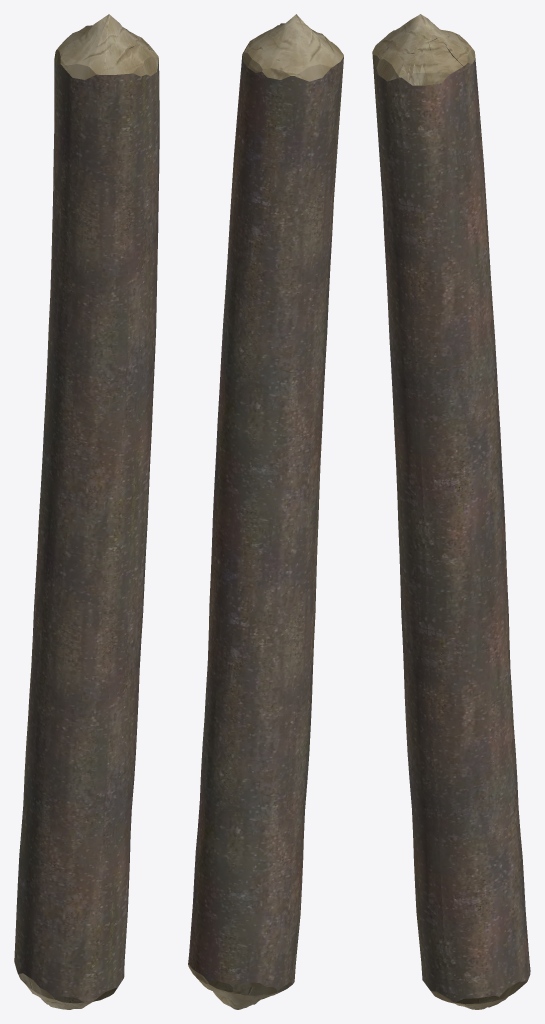
3 views of the same model, side by side, from view 1: azimuth 90°, elevation 25°; view 2: azimuth 150°, elevation 25°; view 3: azimuth 330°, elevation 25° (orthographic). The views are drawn at different scales.
Visible parts, largest first — view 1: SM_BM_Ash_Tree_01_half_mid_LOD0; view 2: SM_BM_Ash_Tree_01_half_mid_LOD0; view 3: SM_BM_Ash_Tree_01_half_mid_LOD0.
Part boxes in pixels (x1,y1,x2,y2): SM_BM_Ash_Tree_01_half_mid_LOD0: (14, 14, 159, 1009); SM_BM_Ash_Tree_01_half_mid_LOD0: (188, 14, 343, 1009); SM_BM_Ash_Tree_01_half_mid_LOD0: (372, 14, 530, 1009).
Size of the model in its own units: 0.6203 by 4.74 by 0.616.
1 material, 1 textured.
